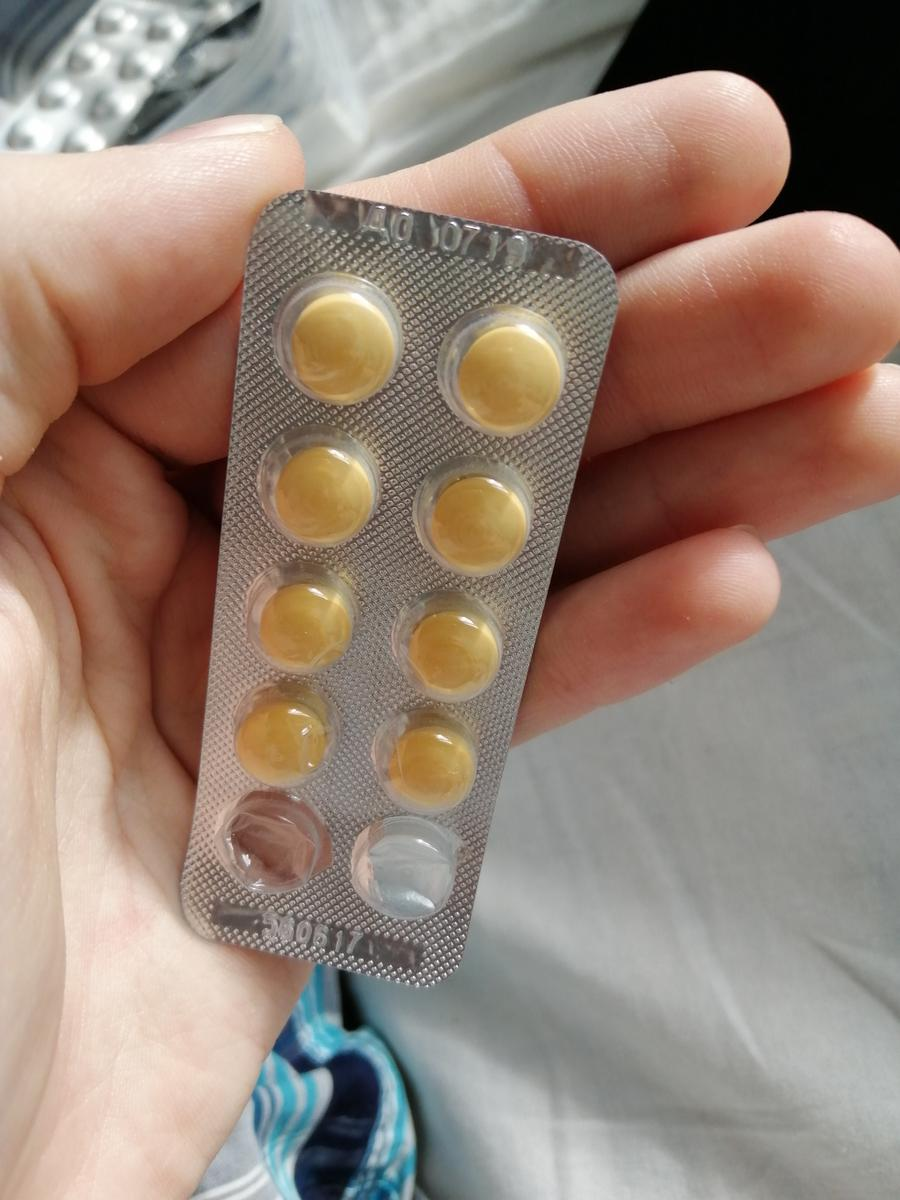tablet: (272, 276, 403, 408), (438, 316, 564, 439), (411, 463, 532, 579), (261, 442, 388, 550), (240, 568, 356, 682), (395, 603, 511, 705), (382, 724, 480, 818), (232, 695, 332, 784)
